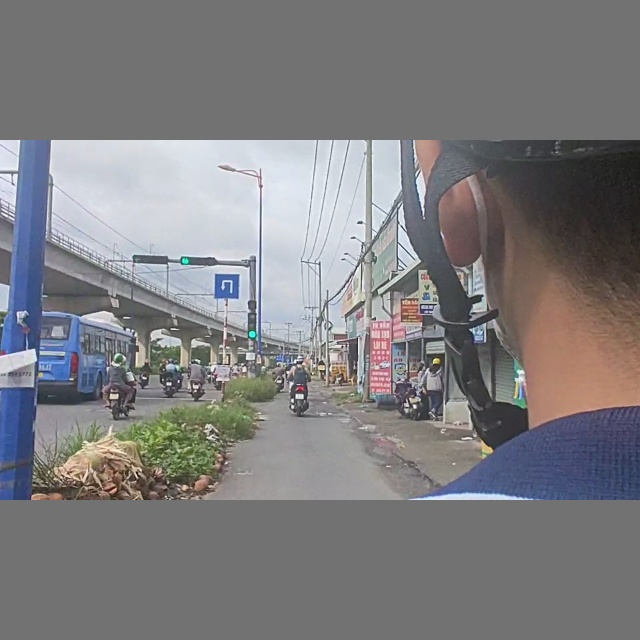I.409: (213, 273, 241, 300)
